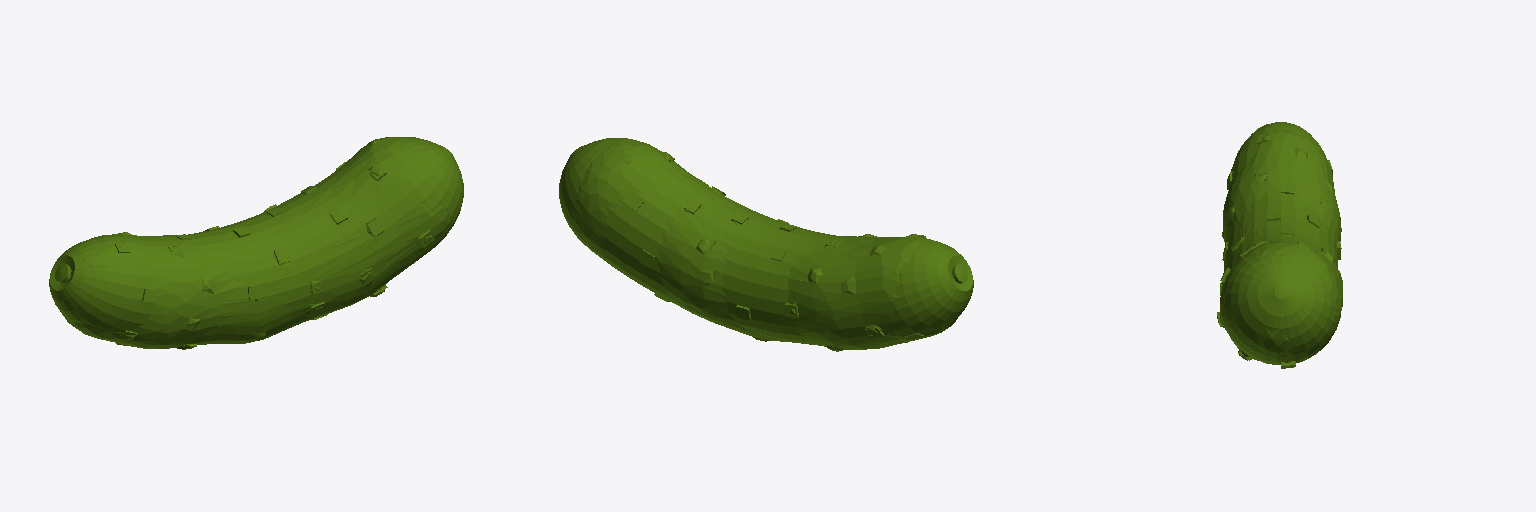
Rendered from Pickle.obj.
3 renders of one model, left to right at view 1: azimuth 30°, elevation 25°; view 2: azimuth 150°, elevation 25°; view 3: azimuth 270°, elevation 25°, orthographic.
Visible parts, largest first — view 1: Capsule, Subdivision_Surface.2; view 2: Subdivision_Surface.2, Capsule; view 3: Capsule, Subdivision_Surface.2.
Part boxes in pixels (left/top/right/bottom): Capsule: left=49, top=137, right=463, bottom=348; Subdivision_Surface.2: left=60, top=137, right=451, bottom=349; Subdivision_Surface.2: left=572, top=138, right=957, bottom=351; Capsule: left=559, top=138, right=973, bottom=344; Capsule: left=1217, top=122, right=1341, bottom=368; Subdivision_Surface.2: left=1217, top=124, right=1342, bottom=364.
Bounding box in the file's own units: 381 × 141 × 104.